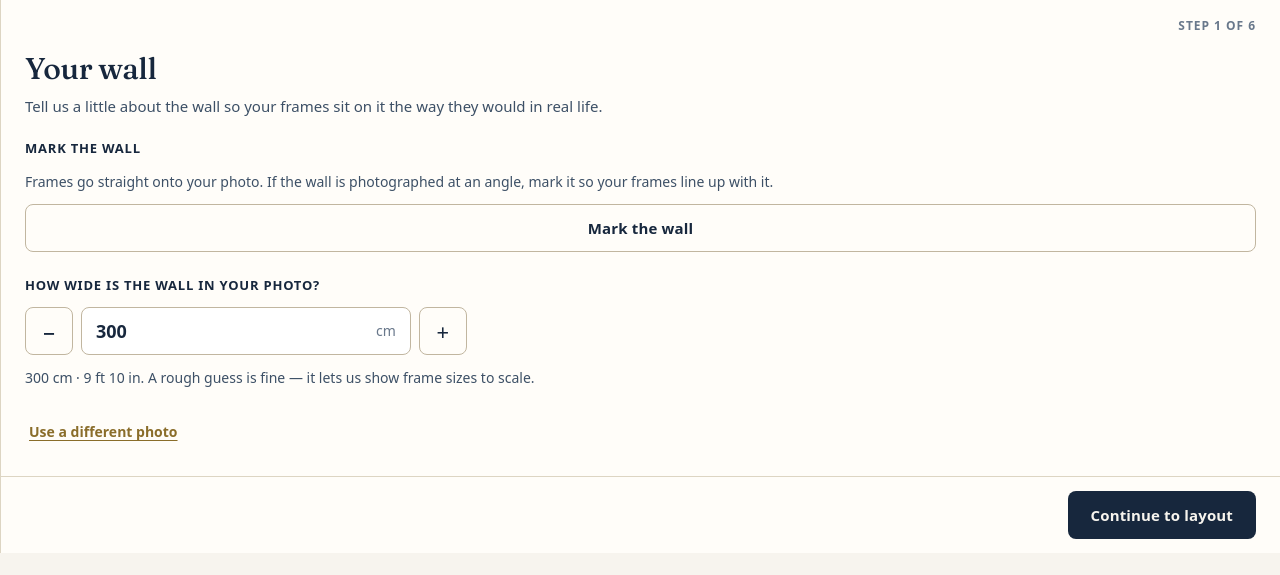
Test: Step 1 — your wall › rejects "5" with an explanation and blocks continuing
This screenshot has width=1280, height=575.
Replace the text in the field with test id "wall-width" with "5": point(232, 331) x1=96 y1=317 x2=368 y2=345
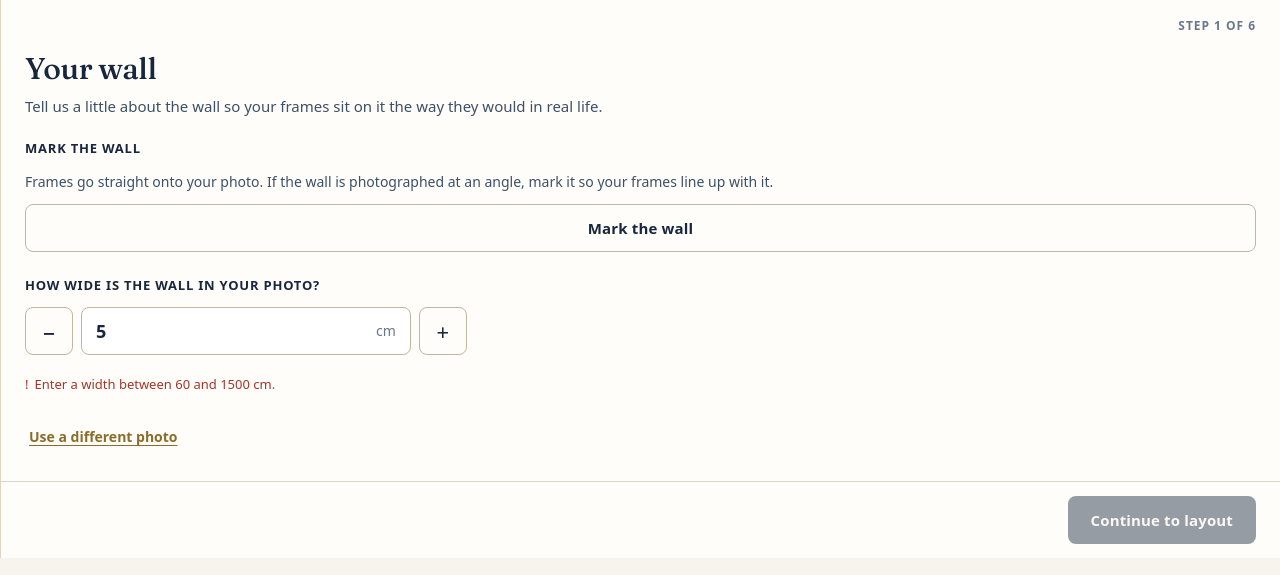
Expected: the message shows "between 60 and 1500 cm", x1=25 y1=375 x2=275 y2=393
Expected: the button with test id "primary-action" is disabled, x1=1068 y1=496 x2=1256 y2=544
